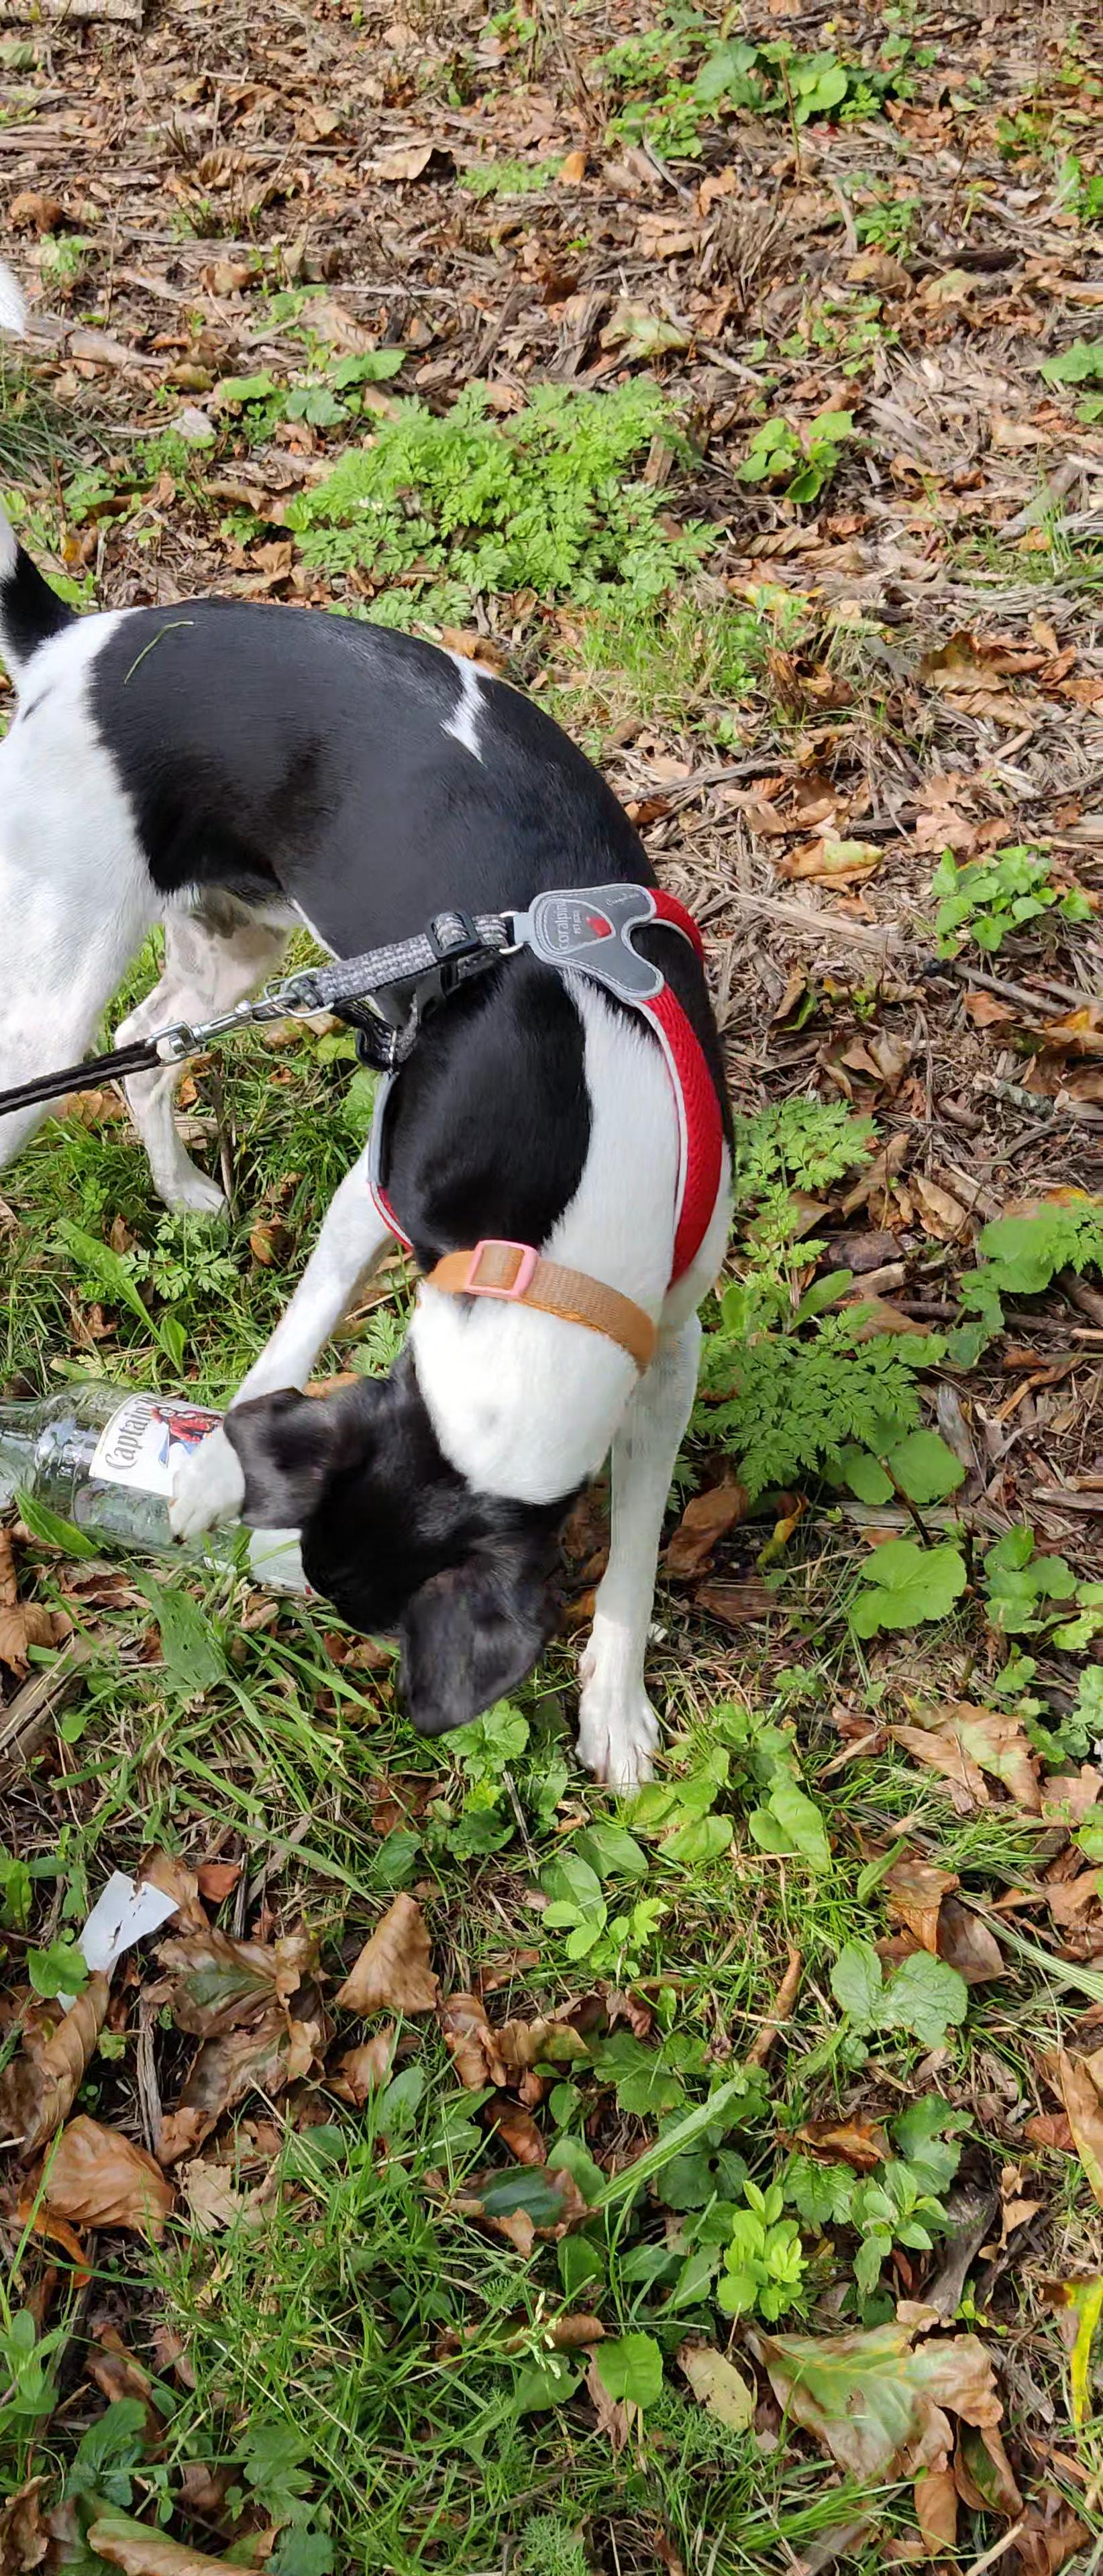Dog: (0, 432, 756, 1835)
